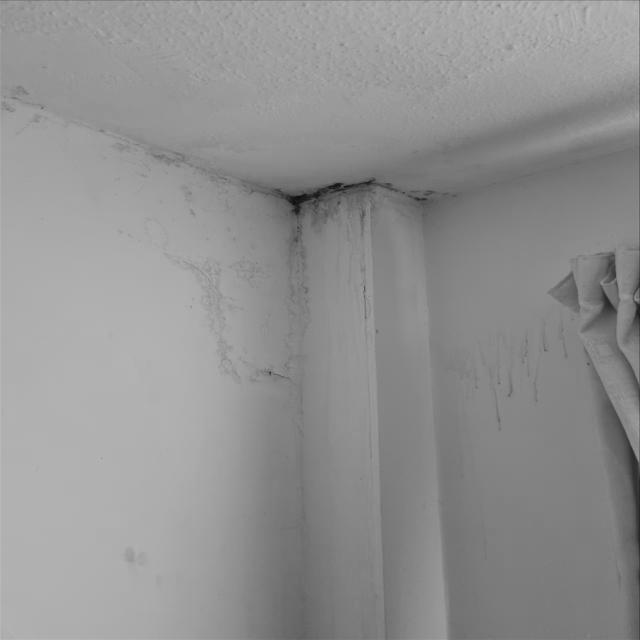paint drips: (455, 304, 583, 442)
stain marks: (0, 77, 455, 438), (116, 533, 174, 600)
